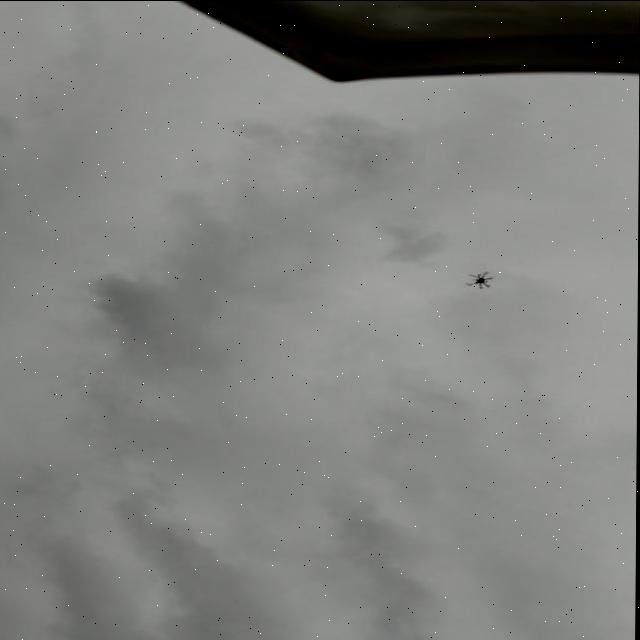drone: (461, 266, 499, 292)
